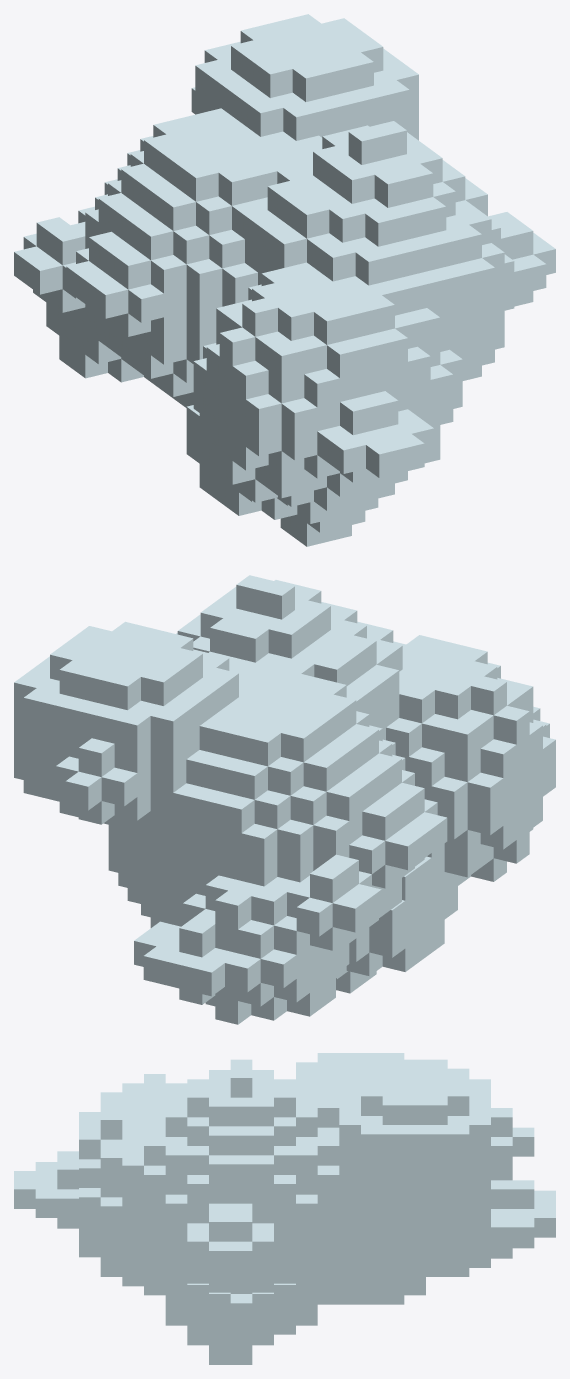
Rendered from CloudOne.fbx.
The picture shows the model from 3 angles, top to bottom: view 1: azimuth 30°, elevation 25°; view 2: azimuth 150°, elevation 25°; view 3: azimuth 270°, elevation 25°; orthographic projection. The views are drawn at different scales.
Parts seen in each view (by area): view 1: CloudOne; view 2: CloudOne; view 3: CloudOne.
Part boxes in pixels (left/top/right/bottom): CloudOne: left=14, top=14, right=555, bottom=546; CloudOne: left=14, top=575, right=555, bottom=1024; CloudOne: left=14, top=1053, right=555, bottom=1364.
Bounding box in the file's own units: 2500 × 1700 × 1600.
